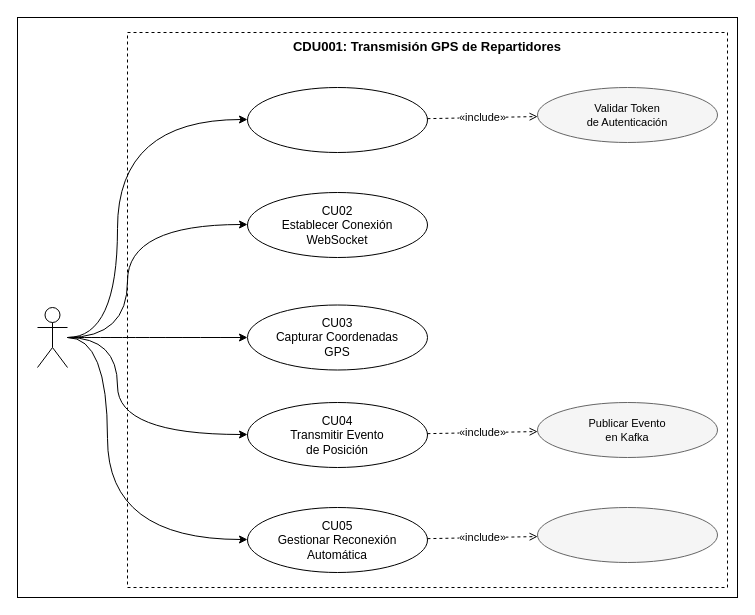
Some shapes in this 755 by 615 pixel diagram are drawn without their labels. The shapes that lost their labels are listed below. From the top down, each one's centre as x and y in pixels, then its label:
At point (337, 119): "CU01 Autenticar Dispositivo Móvil".
At point (52, 337): "Repartidor".
At point (627, 534): "Reintentar Conexión WebSocket".
